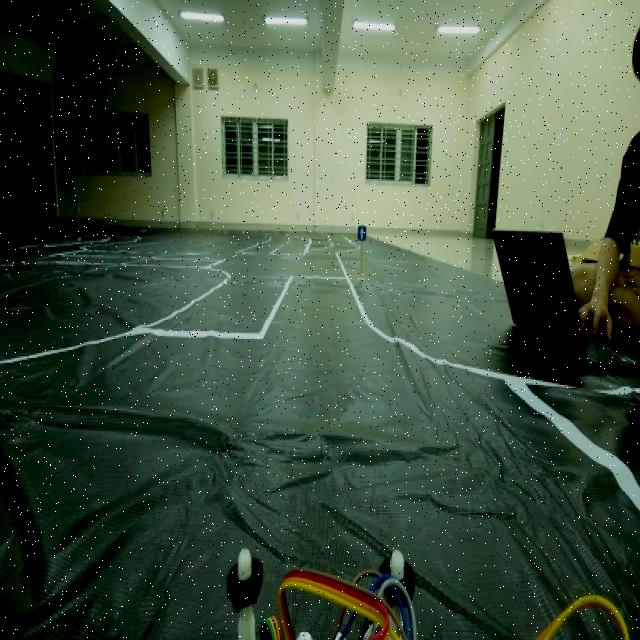onewayroad: (354, 217, 368, 247)
